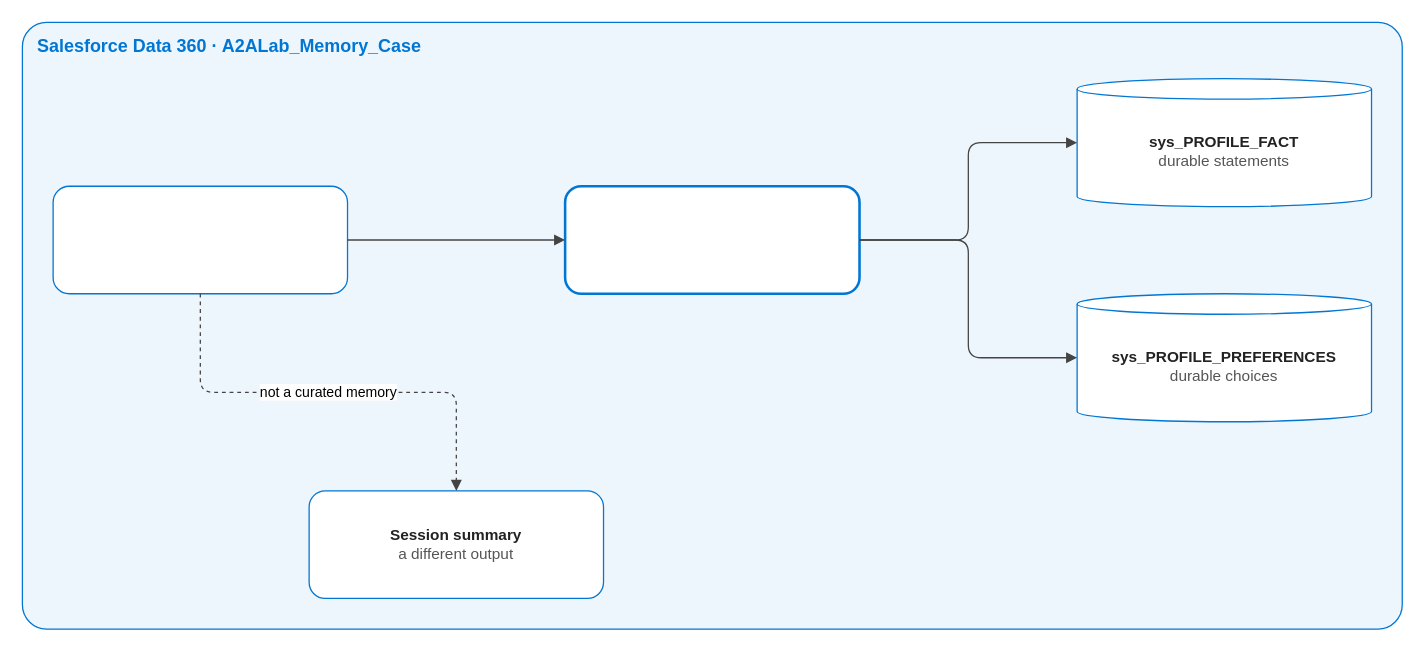
This 1425x652 diagram has some shape labels left out. Each missing label, with the centre of its shape:
Closed session the complete user + agent exchange: (200,239)
LLM extraction asynchronous · inside Data 360: (711,239)
